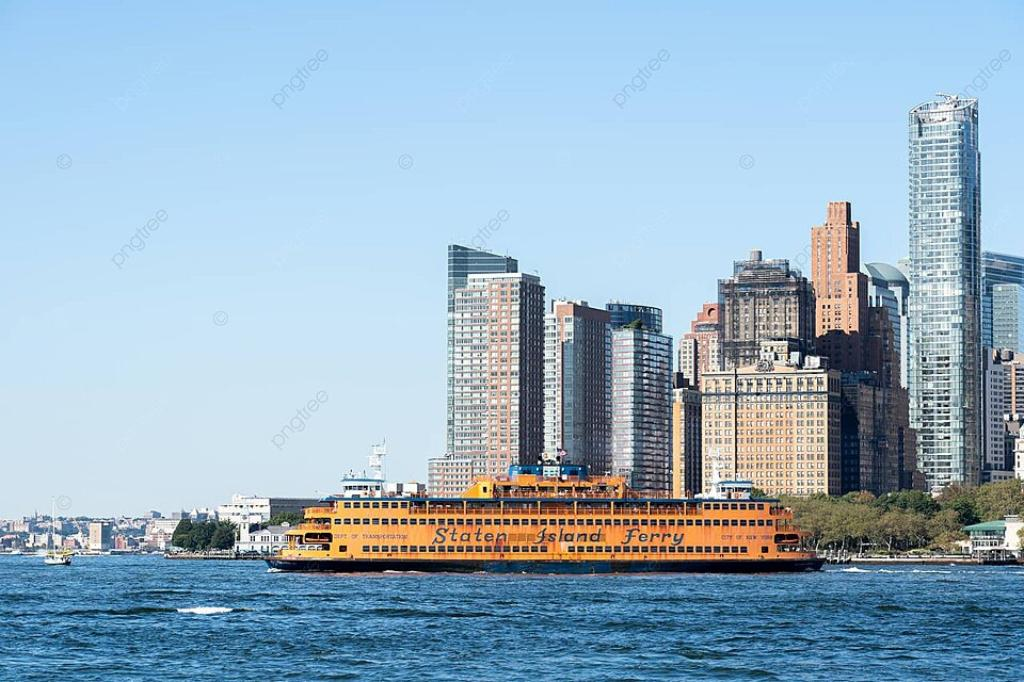PassengerShip: (266, 450, 828, 580)
